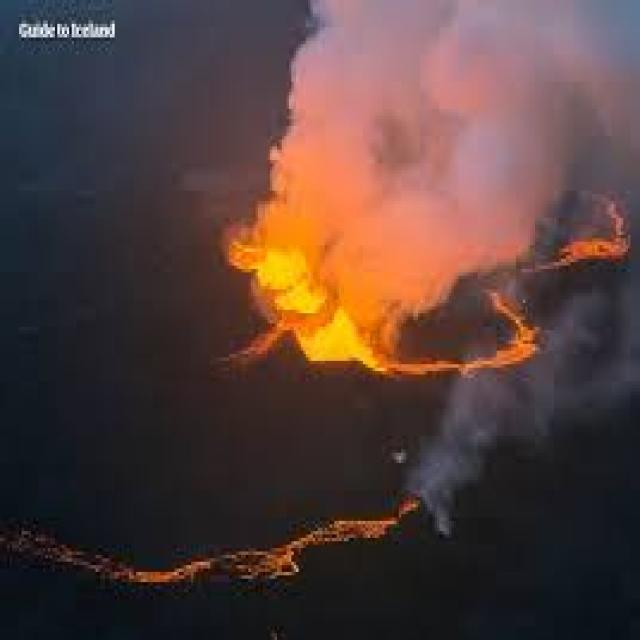explosion: (205, 0, 640, 508)
